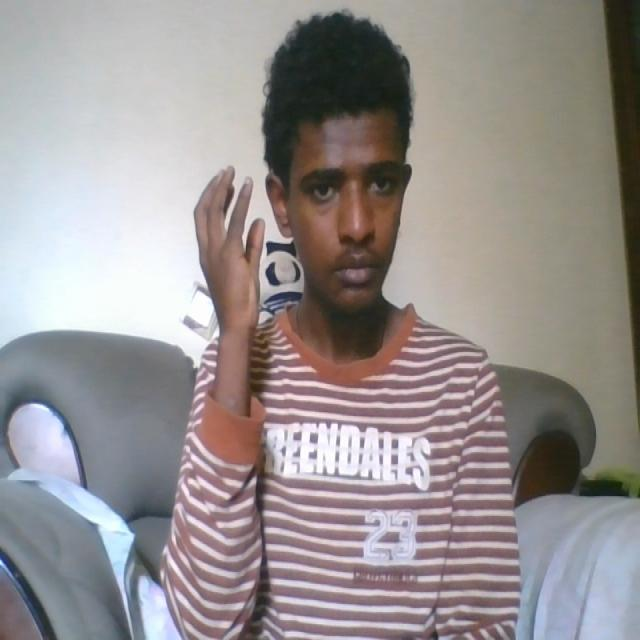menaded: (188, 164, 286, 335)
